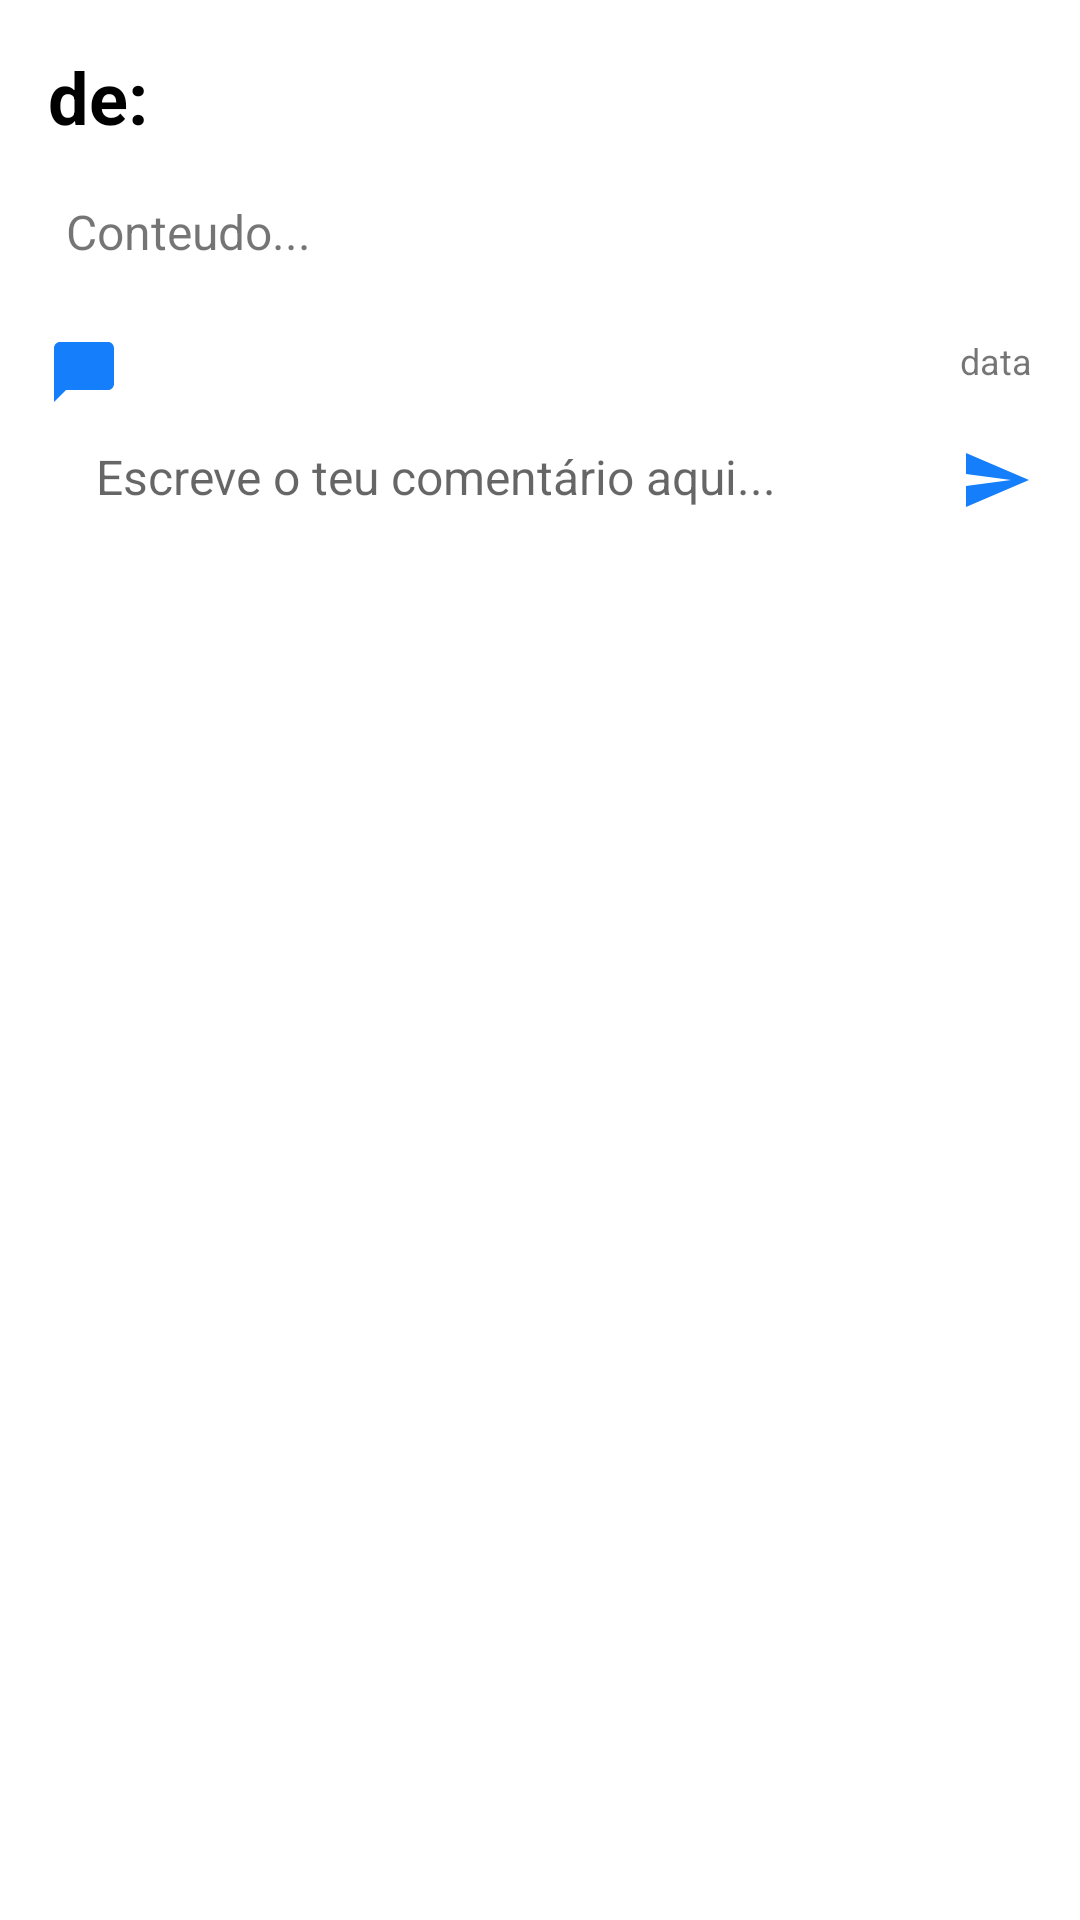

Screen size 1080*1920. Icon name, then its center in pixels as (x=x, y=y):
chat bubble: (x=84, y=372)
send: (x=997, y=480)
